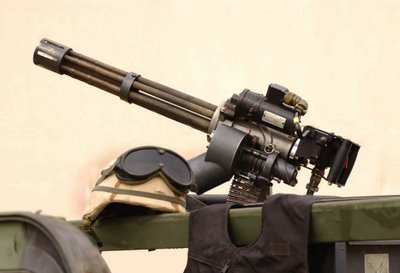rifle: (22, 17, 381, 246)
